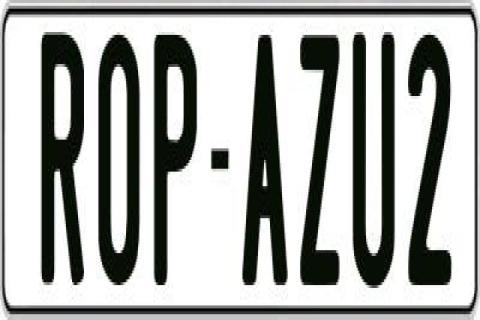0: (406, 35, 450, 297), (95, 32, 137, 282)
A: (242, 29, 292, 297)
P: (154, 29, 202, 288)
R: (42, 24, 86, 294)
U: (350, 27, 396, 286)
Z: (296, 35, 338, 285)
